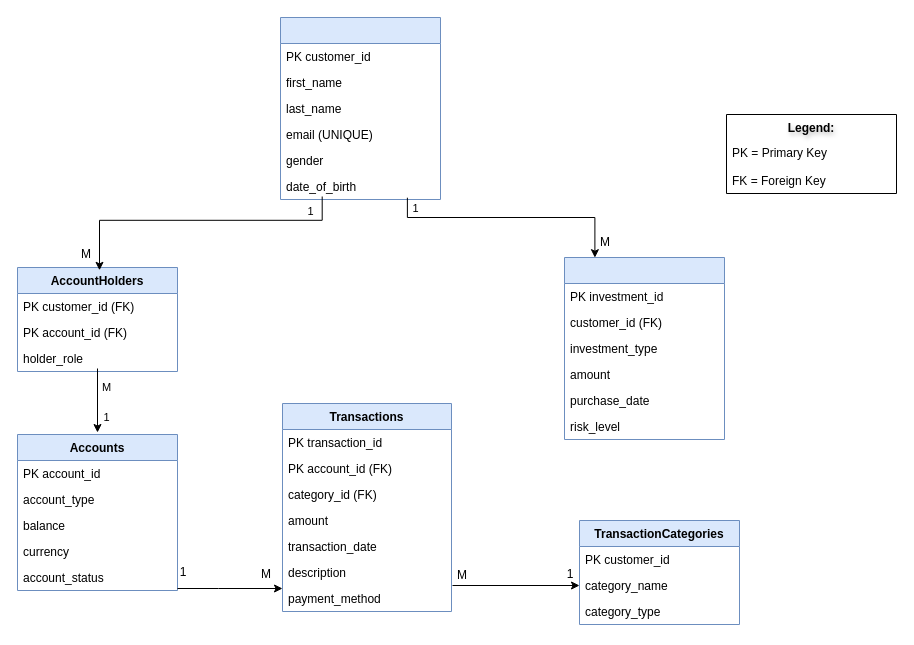
Some shapes in this 914 by 645 pixel diagram are drawn without their labels. Each missing label, with the box of its shape:
Customers: (280, 16, 440, 200)
Investments: (564, 256, 724, 440)
